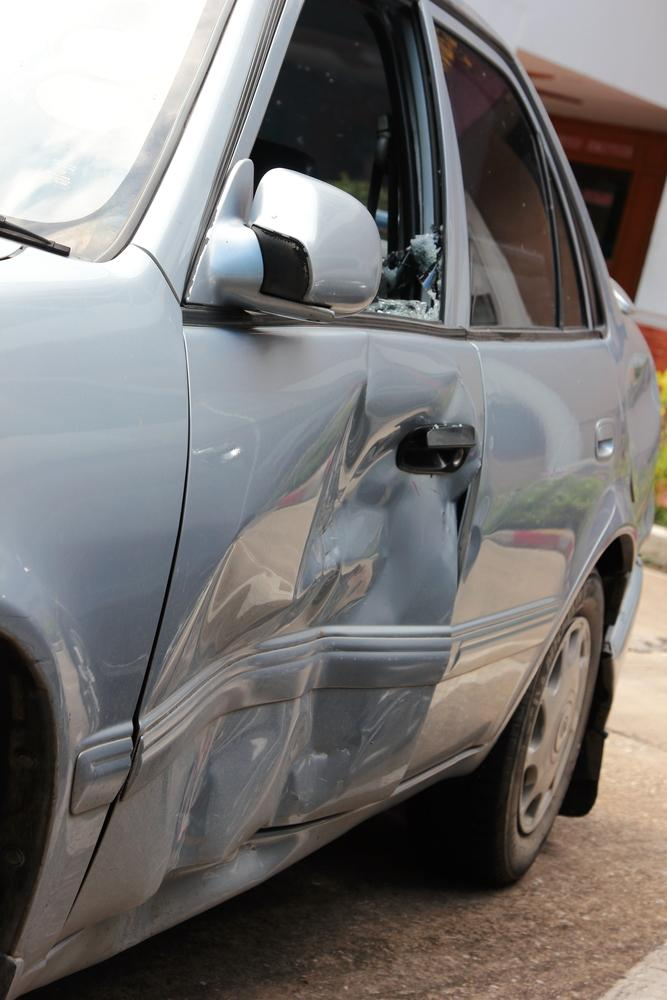dent: (150, 373, 479, 877)
